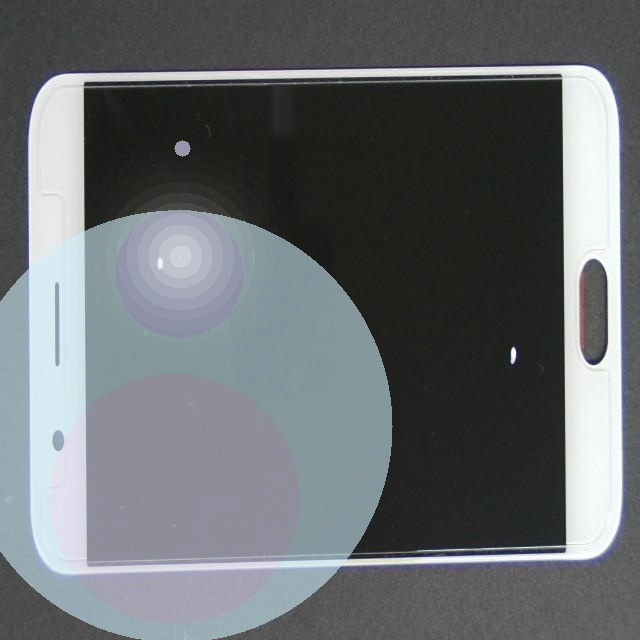stain: (269, 128, 640, 496), (106, 150, 256, 371)
